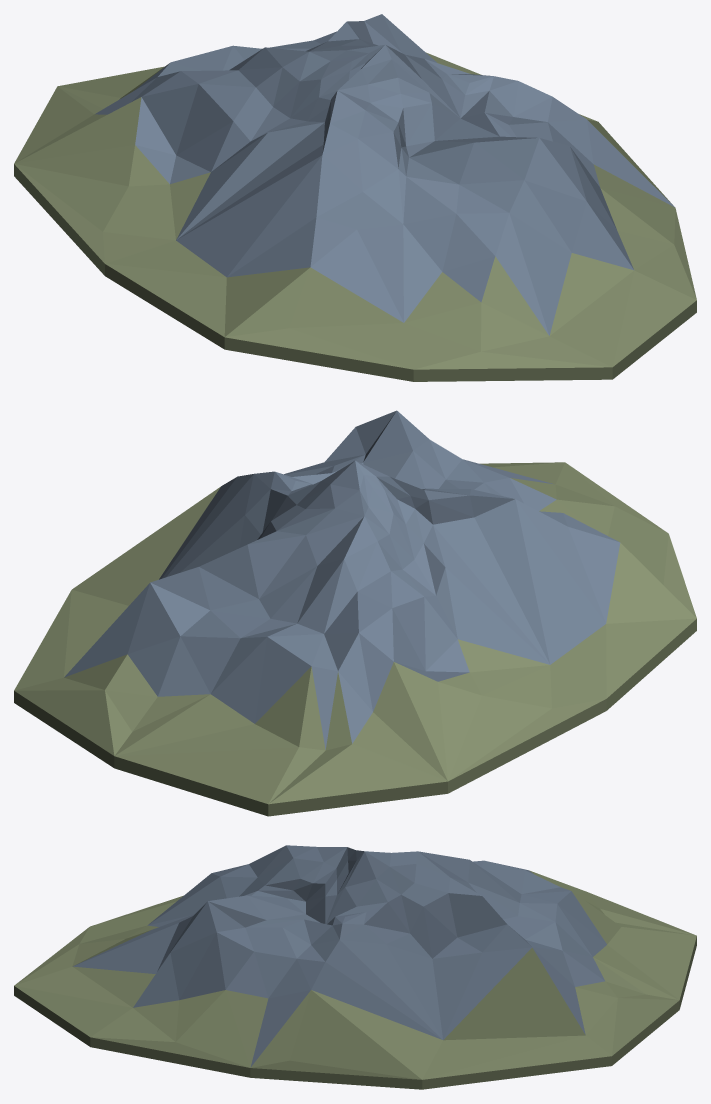
Rendered from massif_cirque_wall.glb.
The picture shows the model from 3 angles, top to bottom: view 1: azimuth 30°, elevation 25°; view 2: azimuth 150°, elevation 25°; view 3: azimuth 270°, elevation 25°; orthographic projection. The views are drawn at different scales.
Parts seen in each view (by area): view 1: massif_cirque_wall; view 2: massif_cirque_wall; view 3: massif_cirque_wall.
Part boxes in pixels (x1,y1,x2,y2): massif_cirque_wall: (14, 14, 696, 381); massif_cirque_wall: (14, 410, 696, 816); massif_cirque_wall: (14, 845, 696, 1089).
Size of the model in its own units: 454 by 149 by 651.
